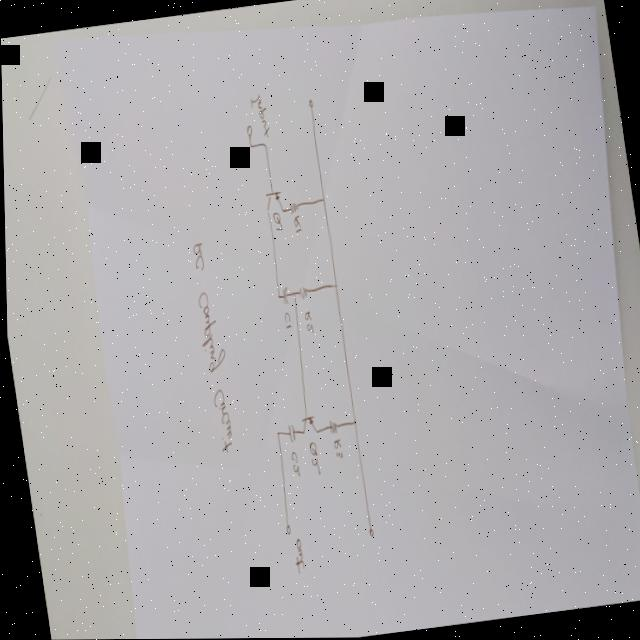capacitor: (284, 421, 294, 444), (279, 284, 288, 306)
junction: (329, 280, 337, 289), (319, 193, 325, 204), (260, 139, 267, 148), (350, 417, 355, 426), (247, 142, 252, 148), (275, 292, 279, 299), (290, 290, 294, 296), (273, 429, 277, 435)
resistor: (325, 416, 338, 435), (295, 284, 307, 299), (286, 199, 298, 214)
terminal: (244, 122, 252, 137), (281, 521, 288, 535), (365, 525, 372, 538), (306, 96, 312, 109)
text: (184, 239, 237, 454), (248, 90, 270, 139), (288, 536, 302, 573), (306, 439, 318, 475), (301, 308, 312, 334), (288, 449, 297, 478), (330, 436, 341, 458), (270, 209, 281, 230), (290, 212, 301, 233), (281, 310, 290, 329)
transistor: (262, 188, 283, 214), (297, 413, 315, 436)
